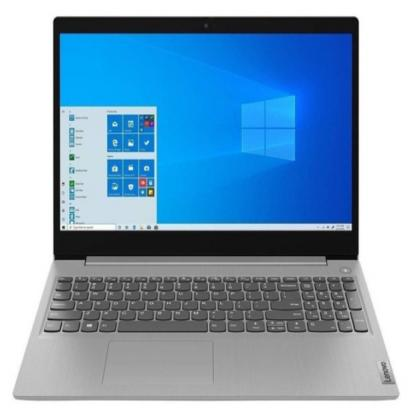NOTEBOOK: (20, 7, 411, 416)
